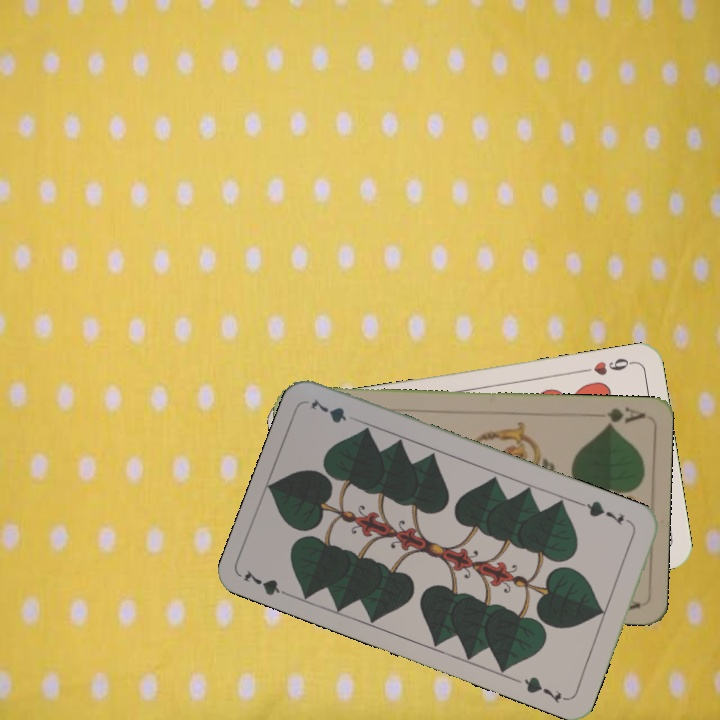G7: (239, 566, 297, 601), (578, 496, 627, 528)
GA: (601, 403, 647, 430)
H9: (578, 354, 637, 378)
